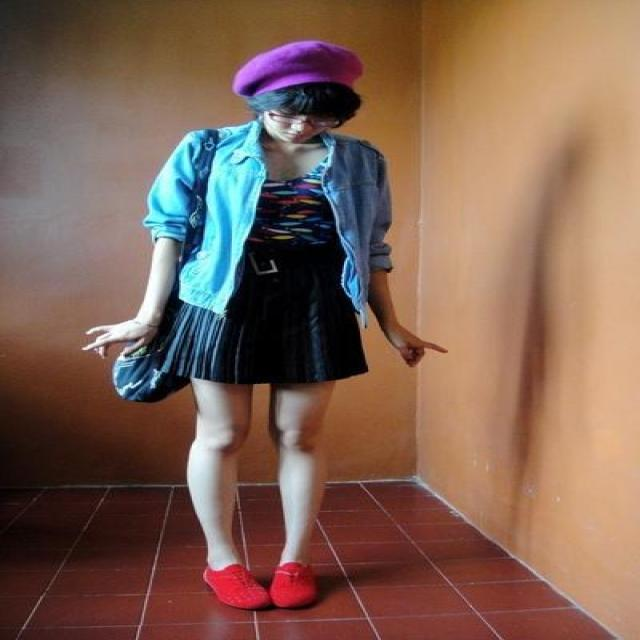bag: (96, 129, 234, 396)
hat: (234, 40, 363, 95)
jacket: (142, 121, 392, 328)
shirt: (232, 174, 346, 293)
shoe: (203, 560, 330, 614)
skirt: (146, 261, 367, 396)
